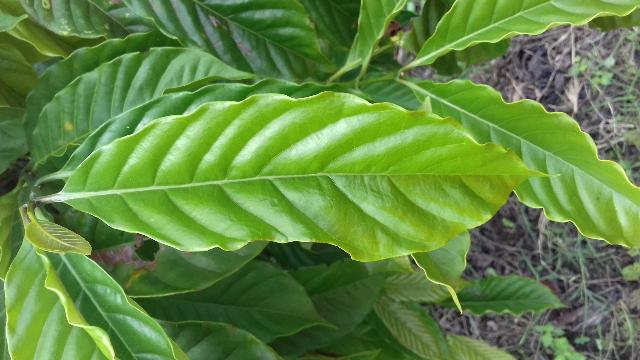healthy: (62, 95, 555, 259)
